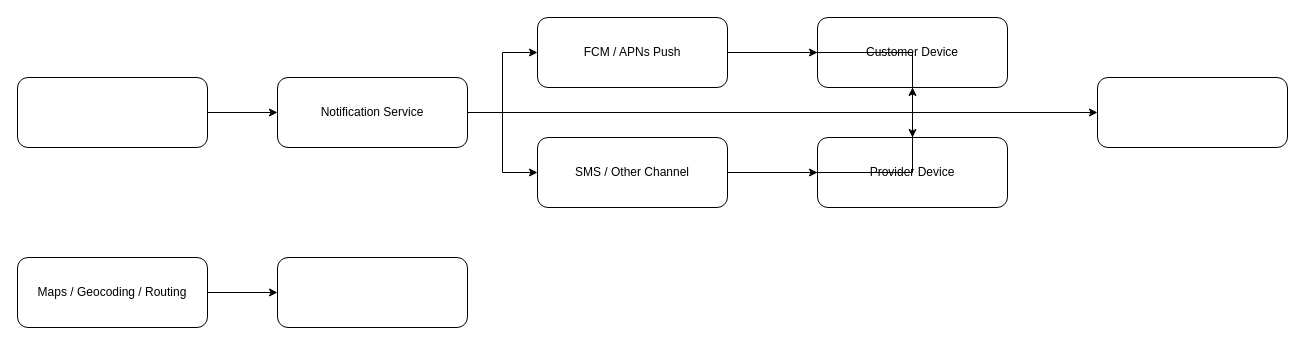
This 1305x345 diagram has some shape labels left out. Each missing label, with the box of its shape:
Backend Domain Event: (16, 76, 208, 148)
Booking Address Snapshot: (276, 256, 468, 328)
Delivery / Event Log: (1096, 76, 1288, 148)
